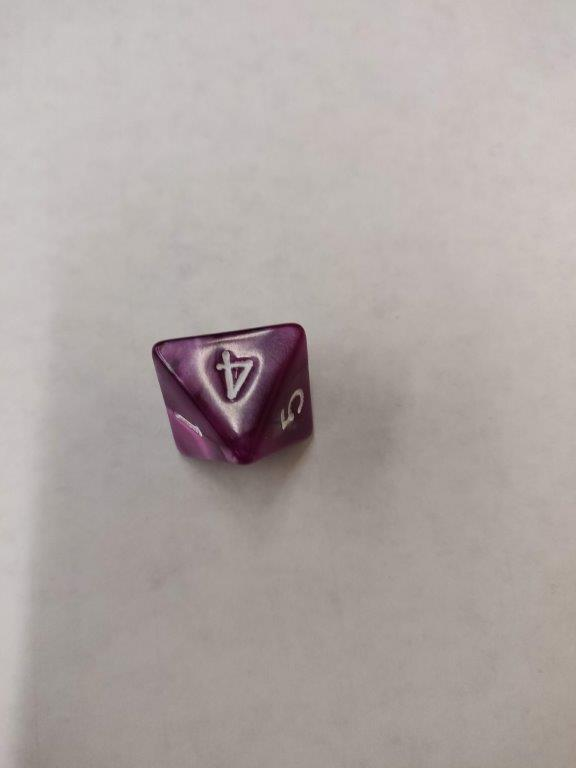d8-4: (151, 322, 318, 463)
